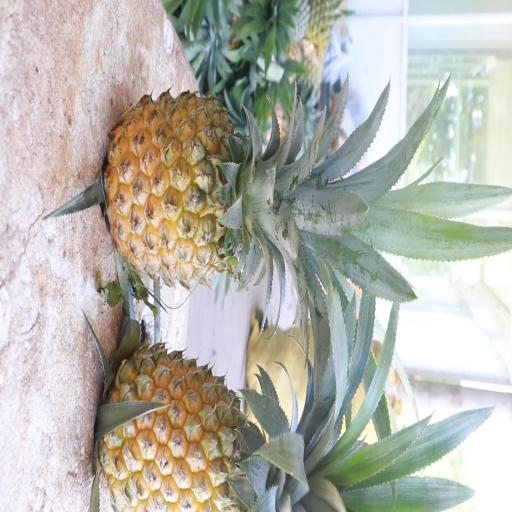Pineapple - v8 v1: (100, 86, 332, 294), (96, 337, 347, 512)
